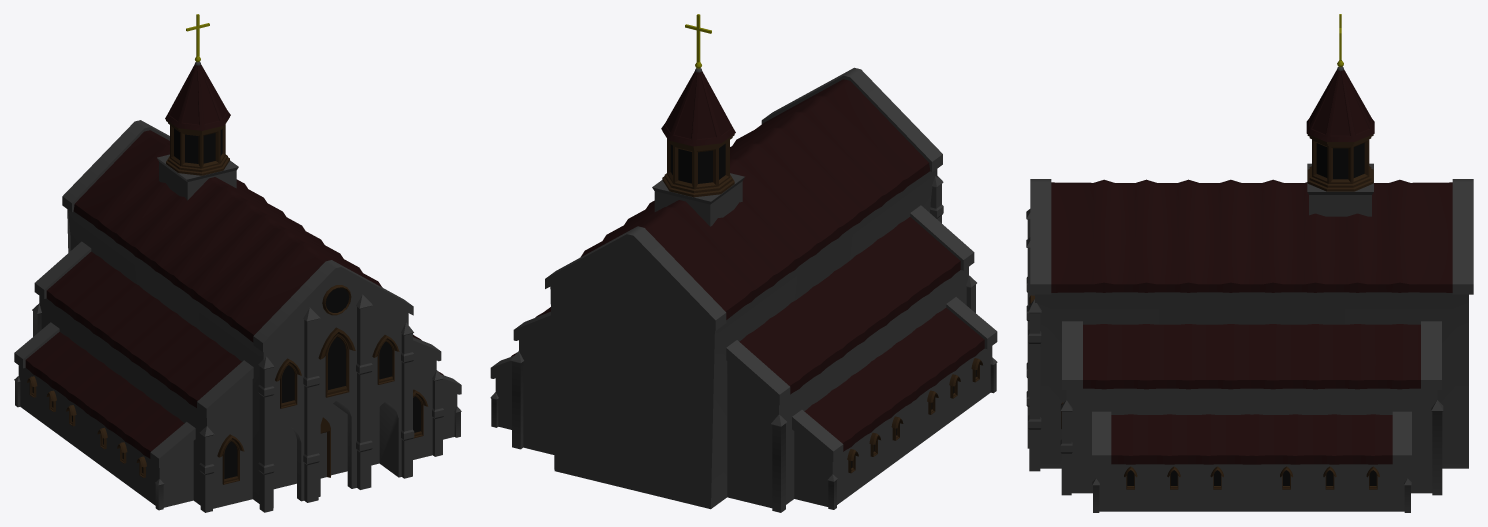
Rendered from SM_Chapel.fbx.
3 renders of one model, left to right at view 1: azimuth 30°, elevation 25°; view 2: azimuth 150°, elevation 25°; view 3: azimuth 270°, elevation 25°, orthographic. The views are drawn at different scales.
Parts seen in each view (by area): view 1: clean6; view 2: clean6; view 3: clean6.
Boxes of the visible parts, left/top/right/bottom form: clean6: left=14, top=14, right=461, bottom=512; clean6: left=490, top=14, right=997, bottom=512; clean6: left=1026, top=14, right=1473, bottom=512.
Bounding box in the file's own units: 1386 × 1623 × 1579.
